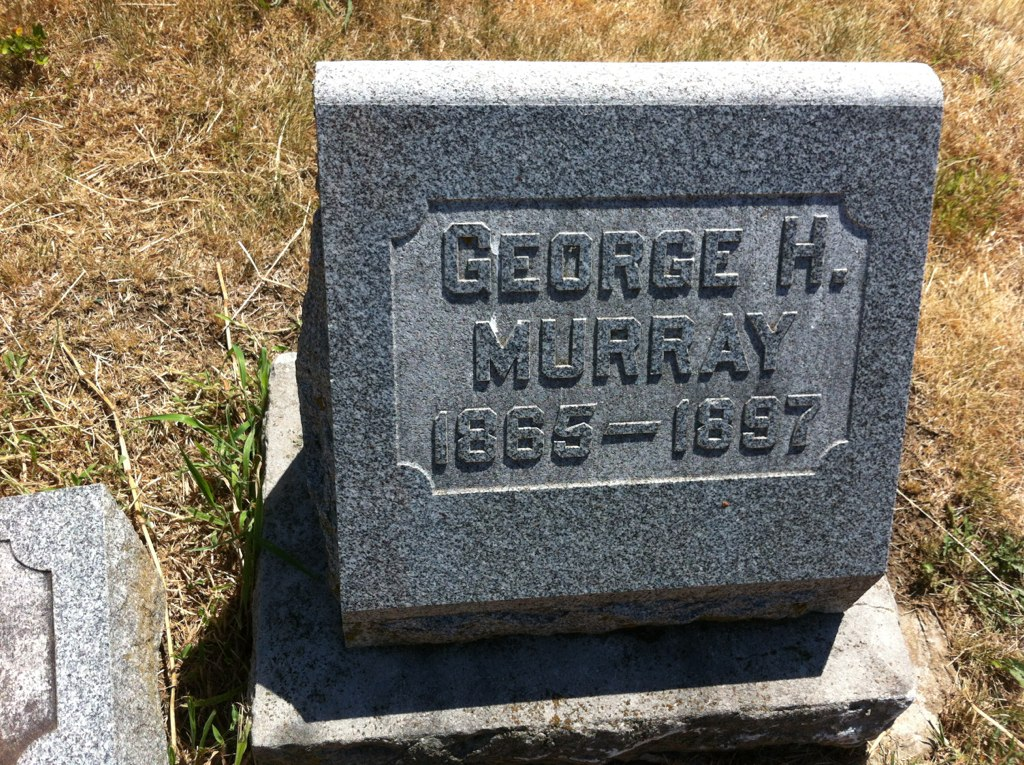slant: (247, 54, 943, 762)
